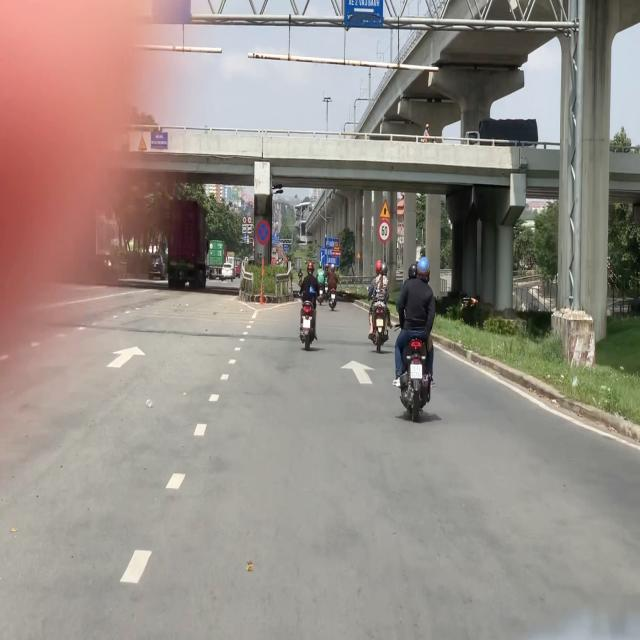Cam dung va do: (256, 218, 272, 247)
Giao voi duong khong uu tien: (378, 198, 392, 220)
Toc do toi da: (378, 220, 391, 242)
